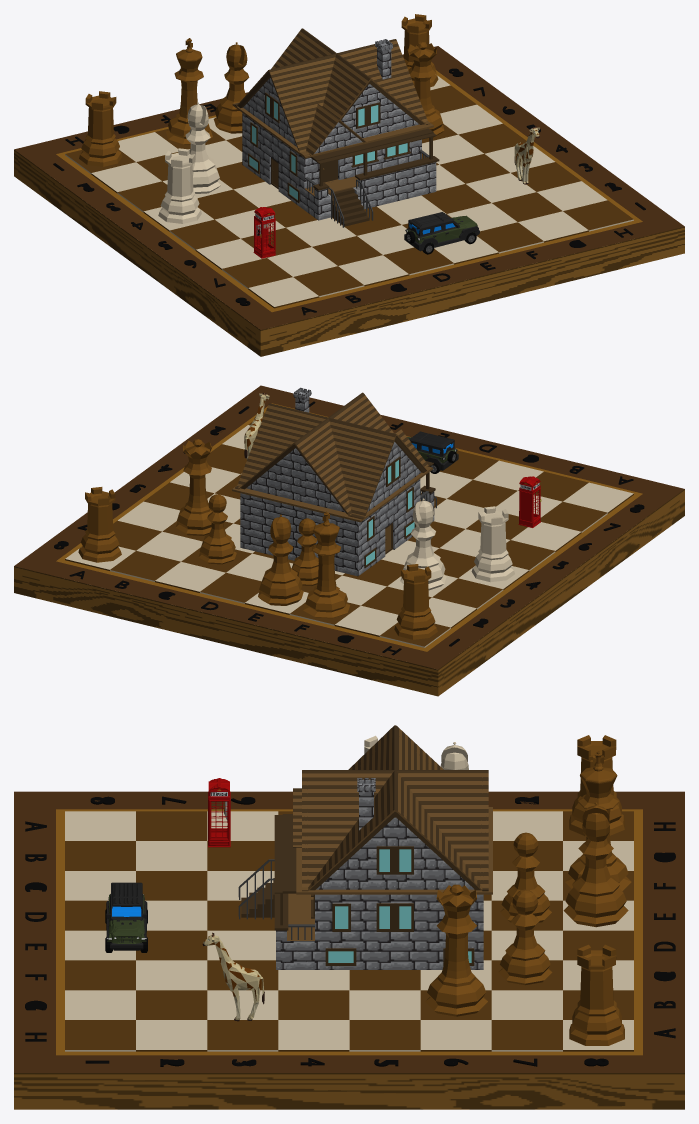
3 views of the same model, one above another, from view 1: azimuth 30°, elevation 25°; view 2: azimuth 150°, elevation 25°; view 3: azimuth 270°, elevation 25° (orthographic). The views are drawn at different scales.
Parts seen in each view (by area): view 1: Cube.002, Cube.586, VEHICLES_JEEP, OBJRANDOM_PHONEBOOTH, ANIMAL_JIRAFA; view 2: Cube.002, Cube.586, VEHICLES_JEEP, OBJRANDOM_PHONEBOOTH, ANIMAL_JIRAFA; view 3: Cube.002, Cube.586, VEHICLES_JEEP, ANIMAL_JIRAFA, OBJRANDOM_PHONEBOOTH.
Part boxes in pixels (left/top/right/bottom): Cube.002: left=14, top=14, right=684, bottom=356; Cube.586: left=232, top=28, right=439, bottom=227; VEHICLES_JEEP: left=404, top=212, right=479, bottom=254; OBJRANDOM_PHONEBOOTH: left=253, top=207, right=275, bottom=258; ANIMAL_JIRAFA: left=514, top=126, right=539, bottom=184; Cube.002: left=14, top=385, right=684, bottom=696; Cube.586: left=232, top=387, right=436, bottom=576; VEHICLES_JEEP: left=407, top=431, right=458, bottom=473; OBJRANDOM_PHONEBOOTH: left=518, top=476, right=541, bottom=527; ANIMAL_JIRAFA: left=244, top=393, right=269, bottom=459; Cube.002: left=14, top=735, right=684, bottom=1109; Cube.586: left=238, top=725, right=492, bottom=969; VEHICLES_JEEP: left=105, top=882, right=147, bottom=952; ANIMAL_JIRAFA: left=202, top=932, right=264, bottom=1021; OBJRANDOM_PHONEBOOTH: left=208, top=778, right=230, bottom=847.
Size of the model in its own units: 3981 by 1444 by 4012.
Materials: 40 (4 with a texture image).
